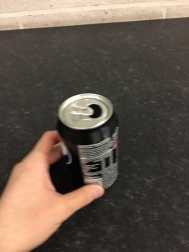can_black: (48, 79, 143, 201)
